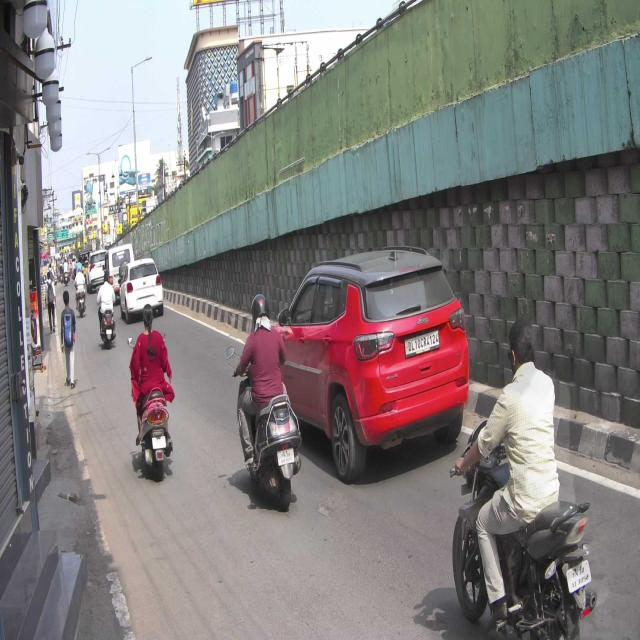single_rider: (449, 315, 596, 640), (231, 290, 302, 511), (128, 300, 176, 485)
